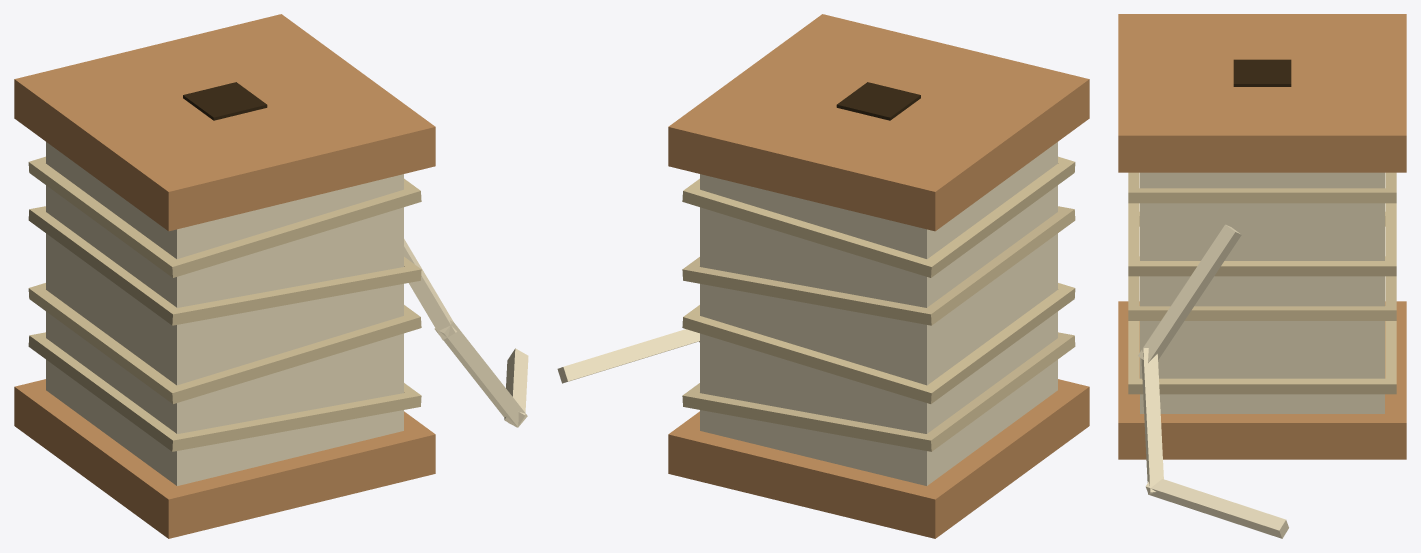
Rendered from string-spool-blocky.glb.
3 views of the same model, side by side, from view 1: azimuth 30°, elevation 25°; view 2: azimuth 150°, elevation 25°; view 3: azimuth 270°, elevation 25° (orthographic). The views are drawn at different scales.
Visible parts, largest first — view 1: string-spool; view 2: string-spool; view 3: string-spool.
Boxes of the visible parts, <box> form: string-spool: <box>14,14,528,538</box>; string-spool: <box>557,14,1089,538</box>; string-spool: <box>1118,14,1406,538</box>.
Bounding box in the file's own units: 0.2959 × 0.2223 × 0.1772.
